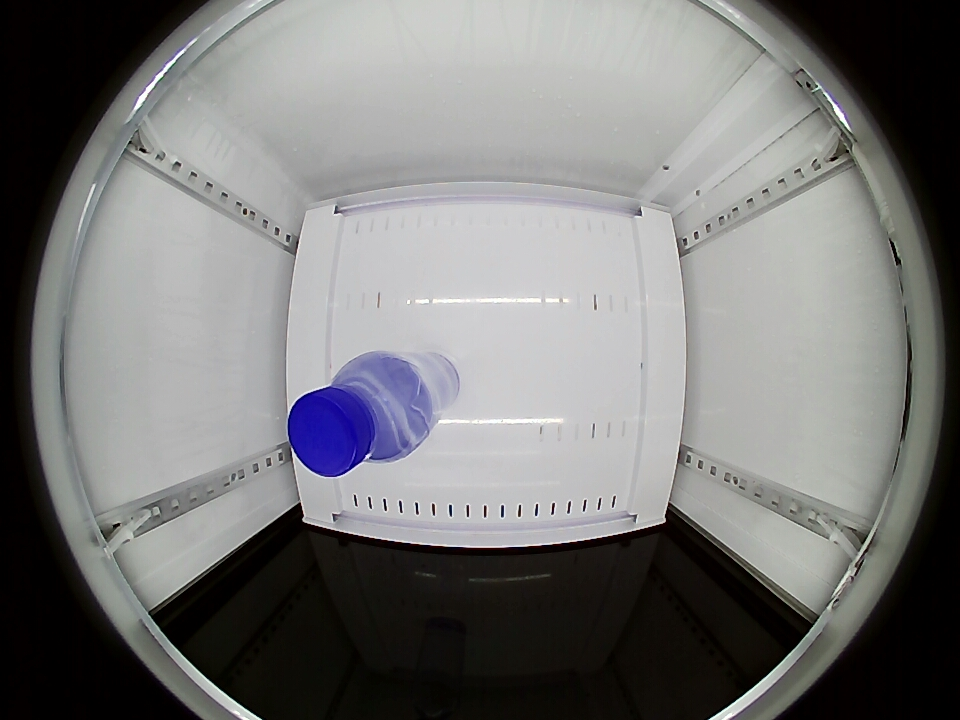aerbeisi: (288, 355, 424, 478)
